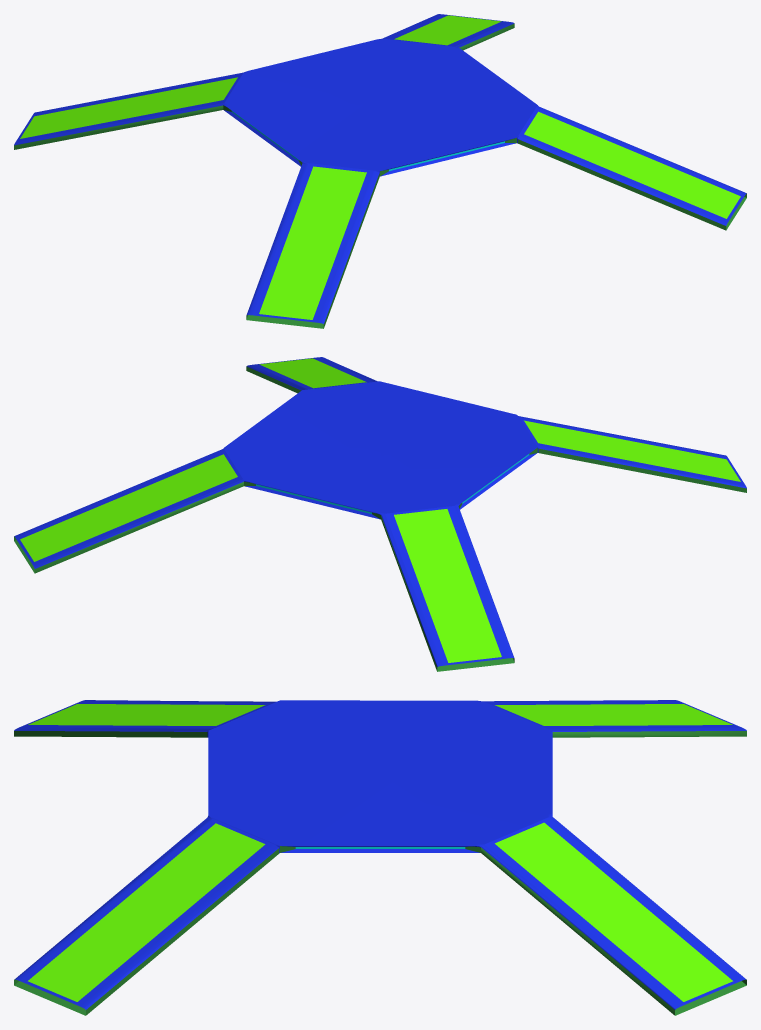
File: Center Jump PAd.FBX
The picture shows the model from 3 angles, top to bottom: view 1: azimuth 30°, elevation 25°; view 2: azimuth 150°, elevation 25°; view 3: azimuth 270°, elevation 25°; orthographic projection. The views are drawn at different scales.
Parts seen in each view (by area): view 1: Gengon006; view 2: Gengon006; view 3: Gengon006.
Part boxes in pixels (x1,y1,x2,y2): Gengon006: (14,14,746,328); Gengon006: (14,357,746,671); Gengon006: (14,700,746,1015).
Size of the model in its own units: 3.38 by 0.447 by 3.38.
